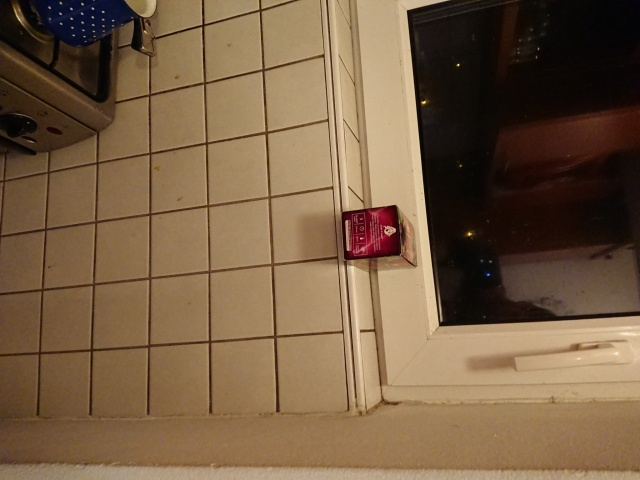Franck Black Currant Tea 60g: (338, 202, 419, 274)
